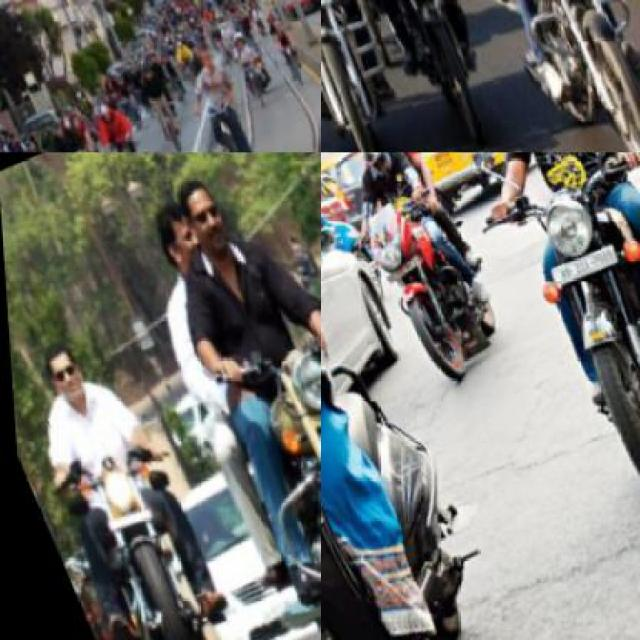With Helmet: (337, 152, 394, 175)
Without Helmet: (160, 166, 237, 266), (140, 194, 209, 291), (26, 332, 92, 416), (191, 52, 212, 78)
